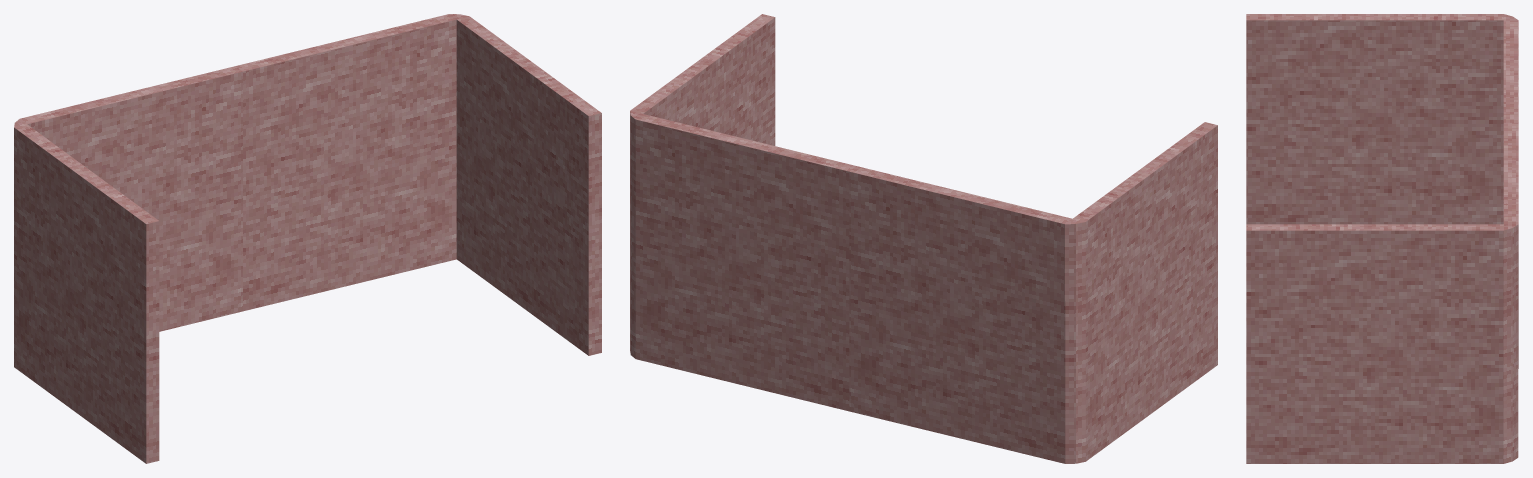
Rendered from divider_full_c_red.glb.
3 renders of one model, left to right at view 1: azimuth 30°, elevation 25°; view 2: azimuth 150°, elevation 25°; view 3: azimuth 270°, elevation 25°, orthographic. The views are drawn at different scales.
Parts seen in each view (by area): view 1: divider_full_c_red; view 2: divider_full_c_red; view 3: divider_full_c_red.
Boxes of the visible parts, x1,y1,x2,y2 form: divider_full_c_red: (14,14,601,463); divider_full_c_red: (630,14,1217,463); divider_full_c_red: (1246,14,1518,463).
Bounding box in the file's own units: 2.99 × 1.5 × 1.59.
Materials: 1 (1 with a texture image).
